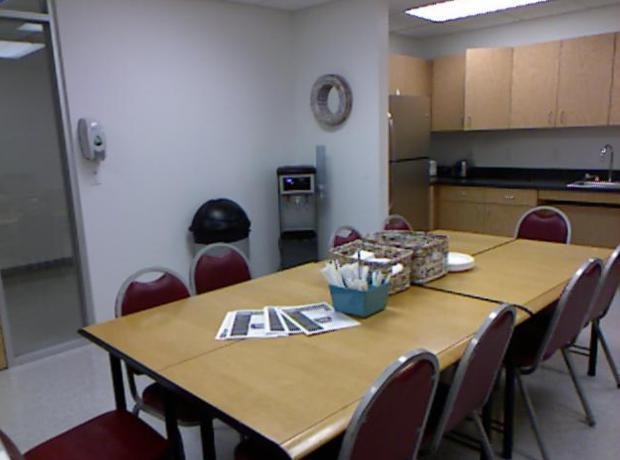Bote de Basura: (187, 198, 251, 321)
Electrodomestico: (388, 92, 432, 265)
Lavaplatos: (564, 142, 618, 194)
